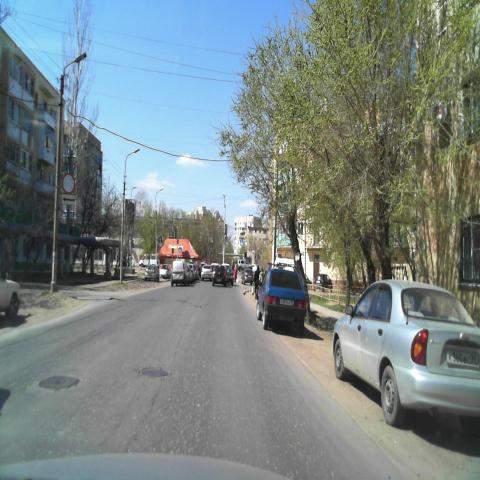3_2: (62, 173, 75, 193)
8_3_2: (62, 194, 76, 205)
